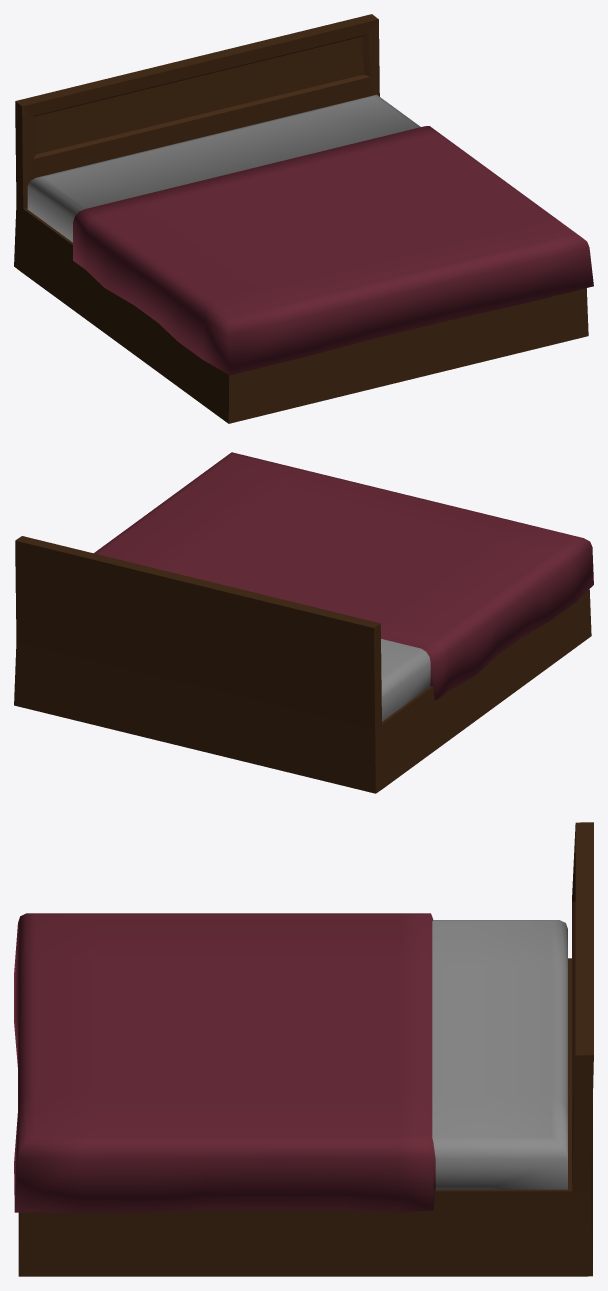
File: bed.fbx
3 views of the same model, one above another, from view 1: azimuth 30°, elevation 25°; view 2: azimuth 150°, elevation 25°; view 3: azimuth 270°, elevation 25° (orthographic). The views are drawn at different scales.
Visible parts, largest first — view 1: Bed; view 2: Bed; view 3: Bed.
Part boxes in pixels (left/top/right/bottom): Bed: left=14, top=14, right=593, bottom=423; Bed: left=14, top=452, right=593, bottom=793; Bed: left=14, top=822, right=593, bottom=1276.
Bounding box in the file's own units: 188 × 78.89 × 185.
